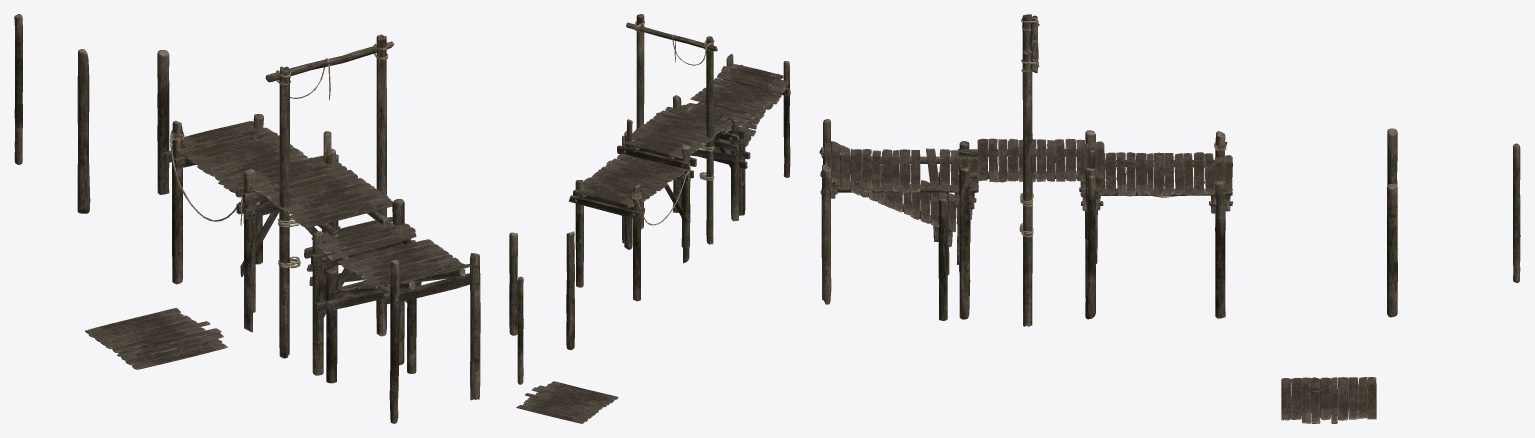
Rendered from modular_wooden_pier.glb.
3 views of the same model, side by side, from view 1: azimuth 30°, elevation 25°; view 2: azimuth 150°, elevation 25°; view 3: azimuth 270°, elevation 25° (orthographic). The views are drawn at different scales.
Visible parts, largest first — view 1: modular_wooden_pier_section_01, modular_wooden_pier_section_03, modular_wooden_pier_section_02, modular_wooden_pier_section_04, modular_wooden_pier_section_05, modular_wooden_pier_planks, modular_wooden_pier_poles; view 2: modular_wooden_pier_section_01, modular_wooden_pier_section_02, modular_wooden_pier_section_03, modular_wooden_pier_section_04, modular_wooden_pier_section_05, modular_wooden_pier_poles, modular_wooden_pier_planks; view 3: modular_wooden_pier_section_01, modular_wooden_pier_section_03, modular_wooden_pier_section_04, modular_wooden_pier_section_02, modular_wooden_pier_planks, modular_wooden_pier_section_05, modular_wooden_pier_poles.
Part boxes in pixels (x1,y1,x2,y2): modular_wooden_pier_section_01: (164, 114, 340, 332); modular_wooden_pier_section_03: (304, 199, 464, 375); modular_wooden_pier_section_02: (235, 148, 392, 313); modular_wooden_pier_section_04: (315, 240, 480, 423); modular_wooden_pier_section_05: (265, 34, 394, 358); modular_wooden_pier_planks: (85, 308, 227, 369); modular_wooden_pier_poles: (14, 14, 169, 213); modular_wooden_pier_section_01: (568, 119, 693, 301); modular_wooden_pier_section_02: (617, 106, 732, 249); modular_wooden_pier_section_03: (673, 79, 781, 221); modular_wooden_pier_section_04: (681, 54, 790, 215); modular_wooden_pier_section_05: (626, 14, 717, 244); modular_wooden_pier_poles: (509, 231, 574, 384); modular_wooden_pier_planks: (516, 381, 618, 423); modular_wooden_pier_section_01: (1081, 131, 1232, 318); modular_wooden_pier_section_03: (835, 141, 978, 319); modular_wooden_pier_section_04: (819, 119, 956, 320); modular_wooden_pier_section_02: (957, 130, 1104, 319); modular_wooden_pier_planks: (1281, 377, 1376, 423); modular_wooden_pier_section_05: (1019, 14, 1039, 326); modular_wooden_pier_poles: (1387, 128, 1520, 317).
Size of the model in its own units: 3.1 by 9.6 by 16.17.
Materials: 3 (3 with a texture image).
